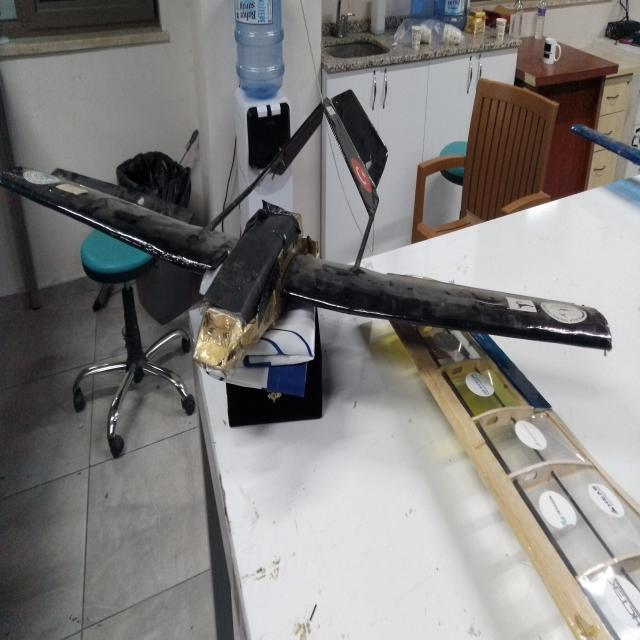UAV: (3, 111, 626, 502)
